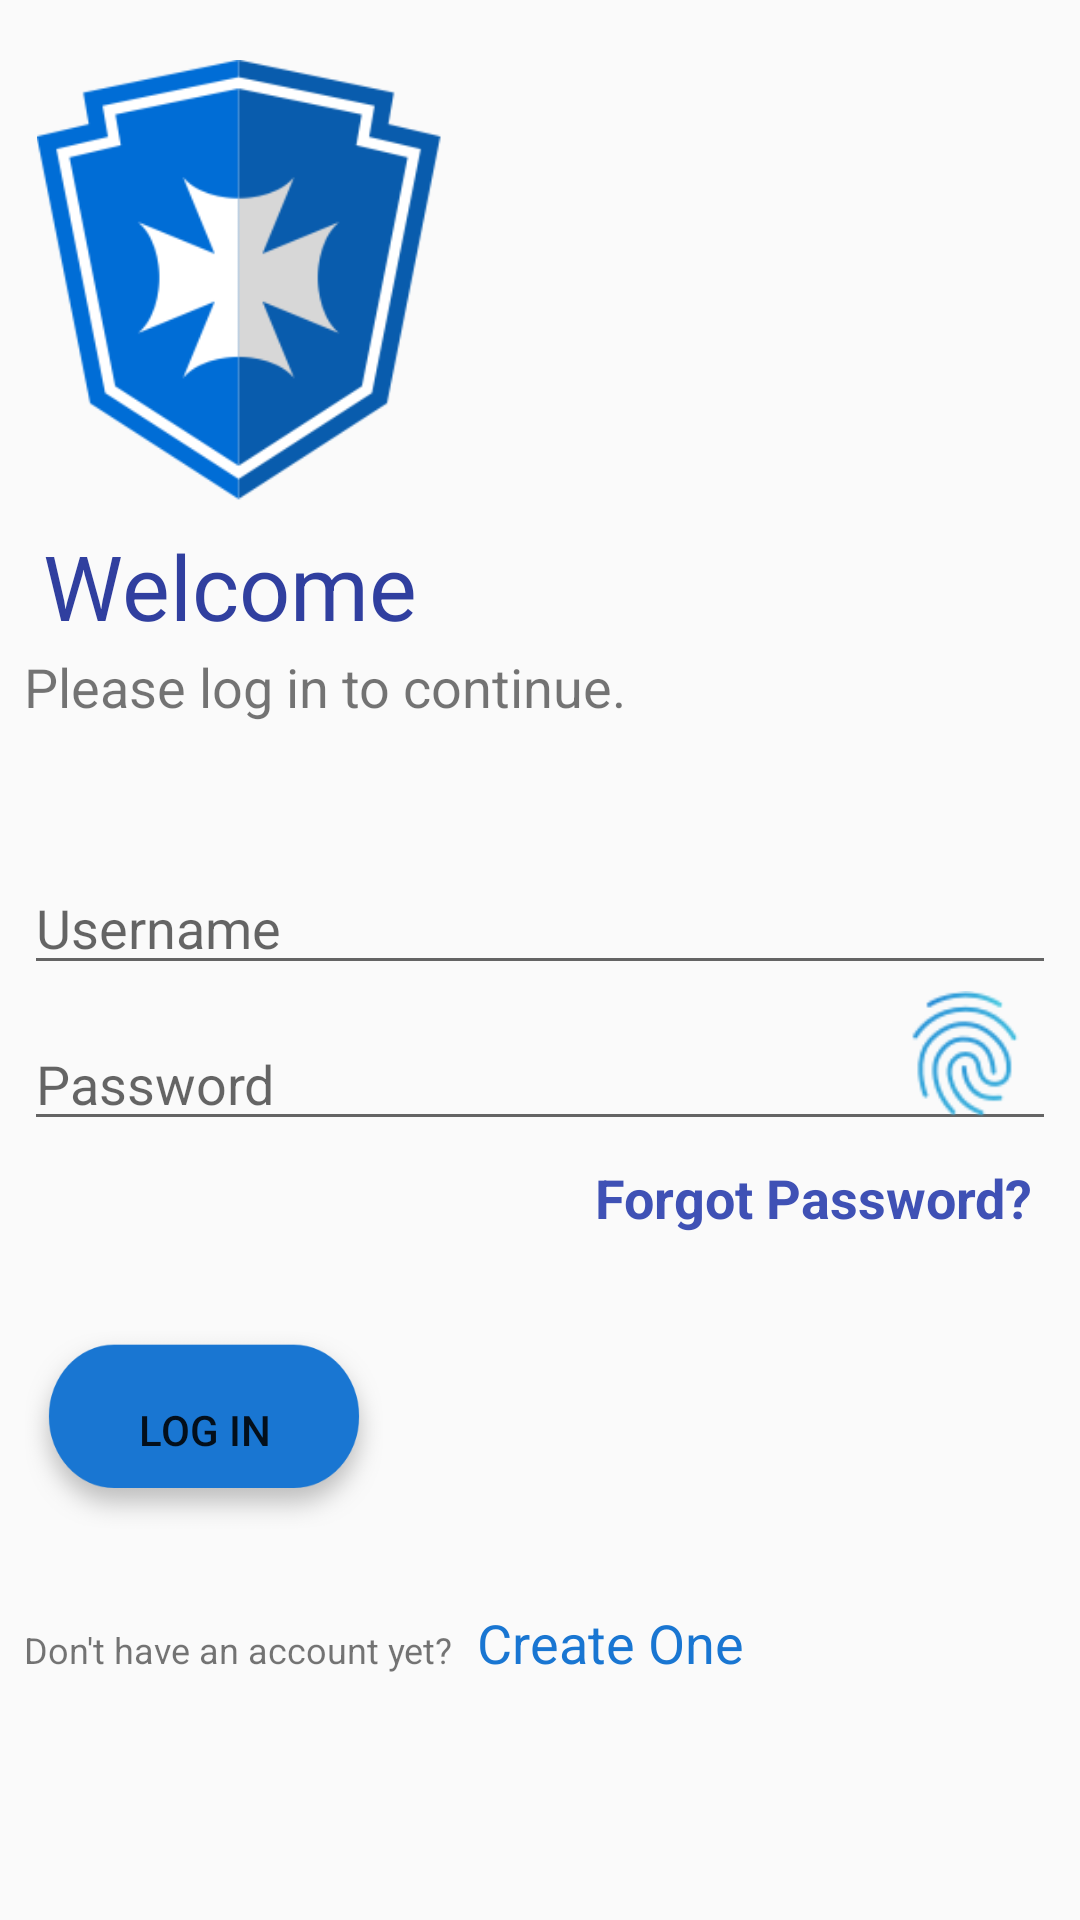

Locate icon controls on the screen. Image size 1080px×1920px, boxes as (x1, y1, x2, y2).
finger print: (895, 991, 1036, 1117)
